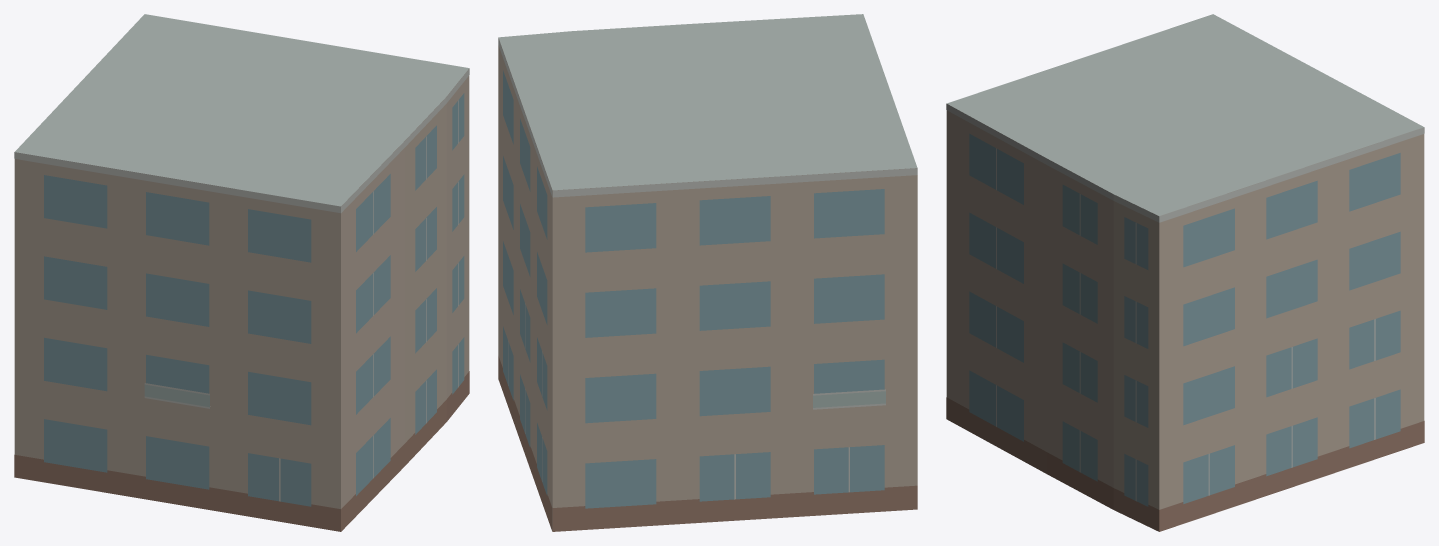
The model's file is survey-upis-32842409.glb.
3 views of the same model, side by side, from view 1: azimuth 30°, elevation 25°; view 2: azimuth 150°, elevation 25°; view 3: azimuth 270°, elevation 25° (orthographic). The views are drawn at different scales.
Parts seen in each view (by area): view 1: survey-upis-32842409.tmp; view 2: survey-upis-32842409.tmp; view 3: survey-upis-32842409.tmp.
Boxes of the visible parts, left/top/right/bottom form: survey-upis-32842409.tmp: left=14, top=14, right=469, bottom=531; survey-upis-32842409.tmp: left=498, top=14, right=917, bottom=531; survey-upis-32842409.tmp: left=946, top=14, right=1424, bottom=531.
Bounding box in the file's own units: 16.08 × 11.7 × 16.06.
